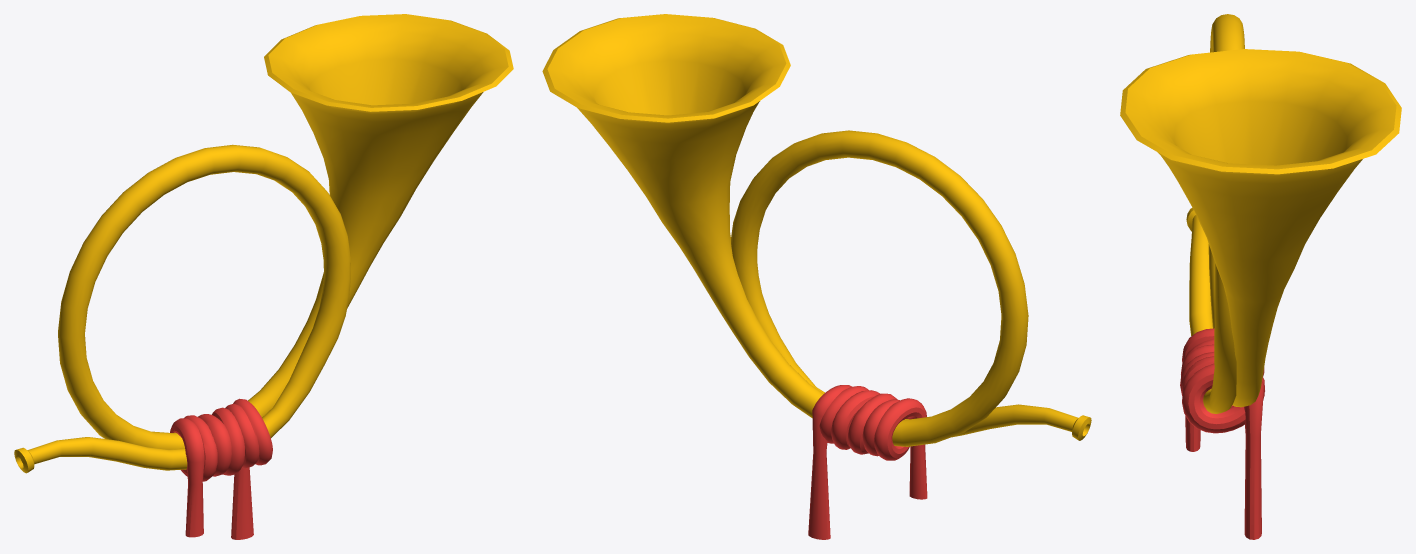
Rendered from postal_horn.glb.
3 views of the same model, side by side, from view 1: azimuth 30°, elevation 25°; view 2: azimuth 150°, elevation 25°; view 3: azimuth 270°, elevation 25° (orthographic). The views are drawn at different scales.
Visible parts, largest first — view 1: Cube.819; view 2: Cube.819; view 3: Cube.819.
Boxes of the visible parts, x1=… form: Cube.819: x1=14, y1=14, x2=513, y2=539; Cube.819: x1=542, y1=14, x2=1091, y2=539; Cube.819: x1=1120, y1=14, x2=1401, y2=539.
Bounding box in the file's own units: 2.36 × 1.98 × 0.983.
1 material, 1 textured.
